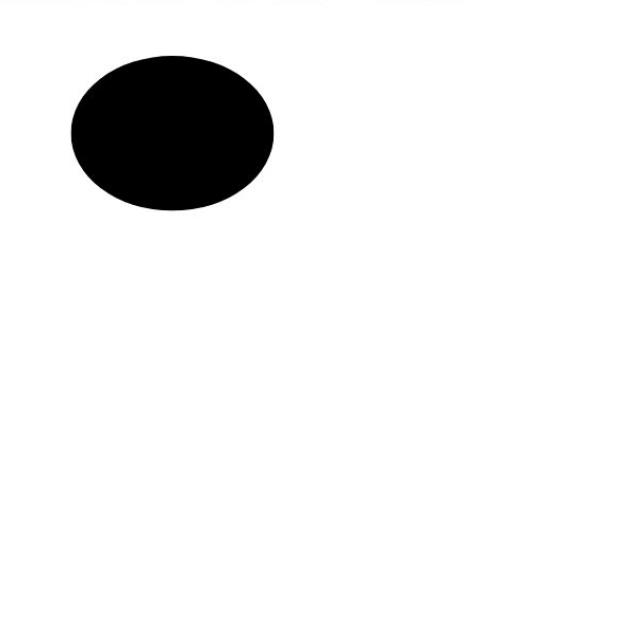letter_a: (72, 52, 529, 601)
